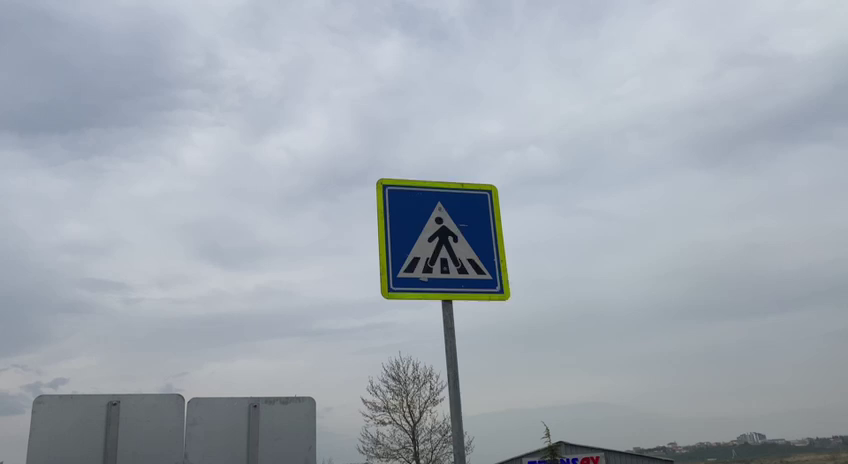pedestrianCrossing: (374, 175, 514, 304)
